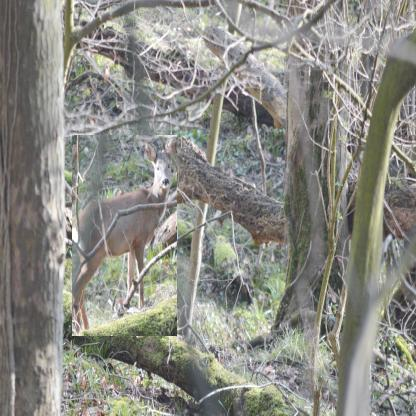Deer: (72, 135, 177, 336)
